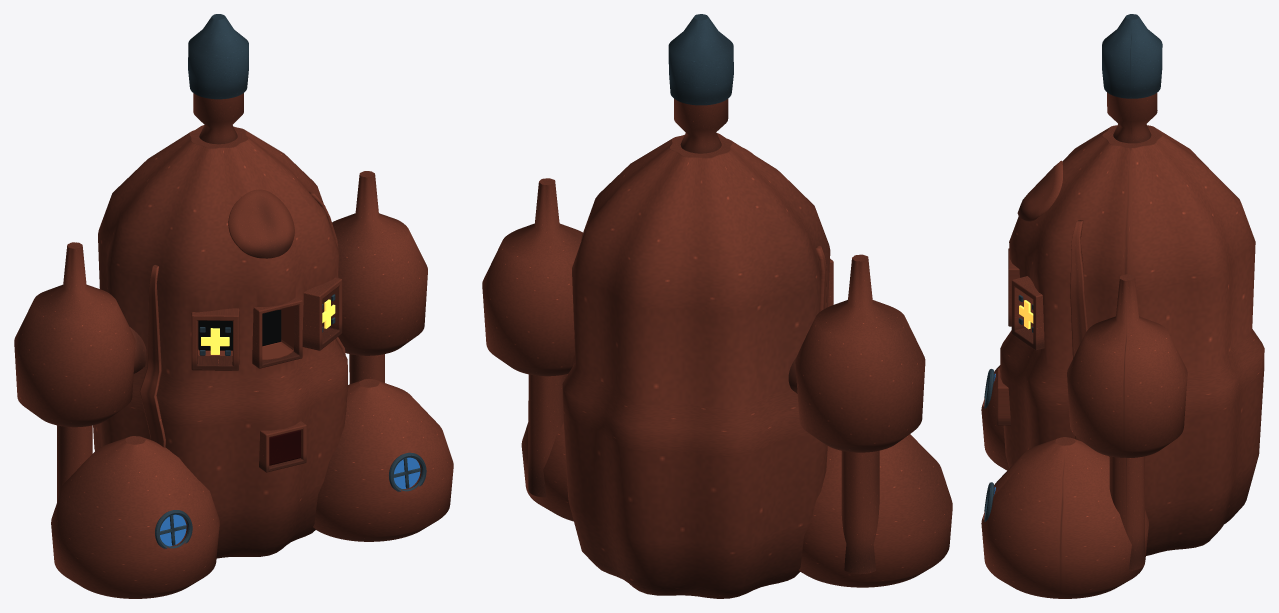
3 renders of one model, left to right at view 1: azimuth 30°, elevation 25°; view 2: azimuth 150°, elevation 25°; view 3: azimuth 270°, elevation 25°, orthographic. The views are drawn at different scales.
Parts seen in each view (by area): view 1: AC09 central market hall, AC09 fore pavilion 0, AC09 fore pavilion 1, AC09 raised side room 0, AC09 raised side room 1, AC09 slate crown hood, AC09 consolidated warm rims, AC09 upper circular coral casting, AC09 left flowing casting, AC09 coral crown neck, AC09 side room support 0, AC09 central opening rim (+5 smaller); view 2: AC09 central market hall, AC09 raised side room 0, AC09 fore pavilion 0, AC09 raised side room 1, AC09 slate crown hood, AC09 side room support 0, AC09 side room support 1, AC09 coral crown neck, AC09 fore pavilion 1; view 3: AC09 central market hall, AC09 fore pavilion 1, AC09 raised side room 1, AC09 slate crown hood, AC09 side room support 1, AC09 coral crown neck, AC09 consolidated warm rims, AC09 right flowing casting, AC09 upper circular coral casting, AC09 fore pavilion 0, AC09 red status rim, AC09 central opening rim.
Boxes of the visible parts, x1=… form: AC09 central market hall: x1=93, y1=125, x2=347, y2=558; AC09 fore pavilion 0: x1=51, y1=436, x2=219, y2=598; AC09 fore pavilion 1: x1=313, y1=379, x2=453, y2=541; AC09 raised side room 0: x1=14, y1=242, x2=135, y2=427; AC09 raised side room 1: x1=332, y1=171, x2=427, y2=355; AC09 slate crown hood: x1=188, y1=14, x2=248, y2=99; AC09 consolidated warm rims: x1=191, y1=277, x2=342, y2=370; AC09 upper circular coral casting: x1=228, y1=189, x2=294, y2=258; AC09 left flowing casting: x1=139, y1=265, x2=165, y2=447; AC09 coral crown neck: x1=193, y1=93, x2=243, y2=144; AC09 side room support 0: x1=57, y1=425, x2=92, y2=501; AC09 central opening rim: x1=252, y1=297, x2=302, y2=368; AC09 central market hall: x1=562, y1=133, x2=830, y2=598; AC09 raised side room 0: x1=795, y1=254, x2=925, y2=452; AC09 fore pavilion 0: x1=799, y1=434, x2=952, y2=587; AC09 raised side room 1: x1=482, y1=178, x2=582, y2=376; AC09 slate crown hood: x1=668, y1=14, x2=733, y2=105; AC09 side room support 0: x1=841, y1=450, x2=879, y2=574; AC09 side room support 1: x1=528, y1=374, x2=566, y2=497; AC09 coral crown neck: x1=674, y1=99, x2=728, y2=153; AC09 fore pavilion 1: x1=521, y1=374, x2=573, y2=521; AC09 central market hall: x1=1000, y1=125, x2=1264, y2=555; AC09 fore pavilion 1: x1=981, y1=437, x2=1148, y2=598; AC09 raised side room 1: x1=1067, y1=274, x2=1187, y2=457; AC09 slate crown hood: x1=1102, y1=14, x2=1162, y2=98; AC09 side room support 1: x1=1109, y1=456, x2=1144, y2=570; AC09 coral crown neck: x1=1107, y1=92, x2=1157, y2=143; AC09 consolidated warm rims: x1=1011, y1=276, x2=1044, y2=350; AC09 right flowing casting: x1=1070, y1=220, x2=1087, y2=440; AC09 upper circular coral casting: x1=1017, y1=160, x2=1062, y2=221; AC09 fore pavilion 0: x1=981, y1=365, x2=1009, y2=470; AC09 red status rim: x1=997, y1=368, x2=1010, y2=425; AC09 central opening rim: x1=1008, y1=248, x2=1019, y2=326.
Size of the model in its own units: 2.72 by 3.28 by 1.69.
Materials: 6 (4 with a texture image).
